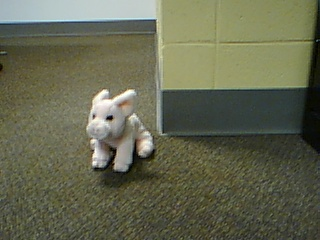piggy: (85, 88, 155, 173)
